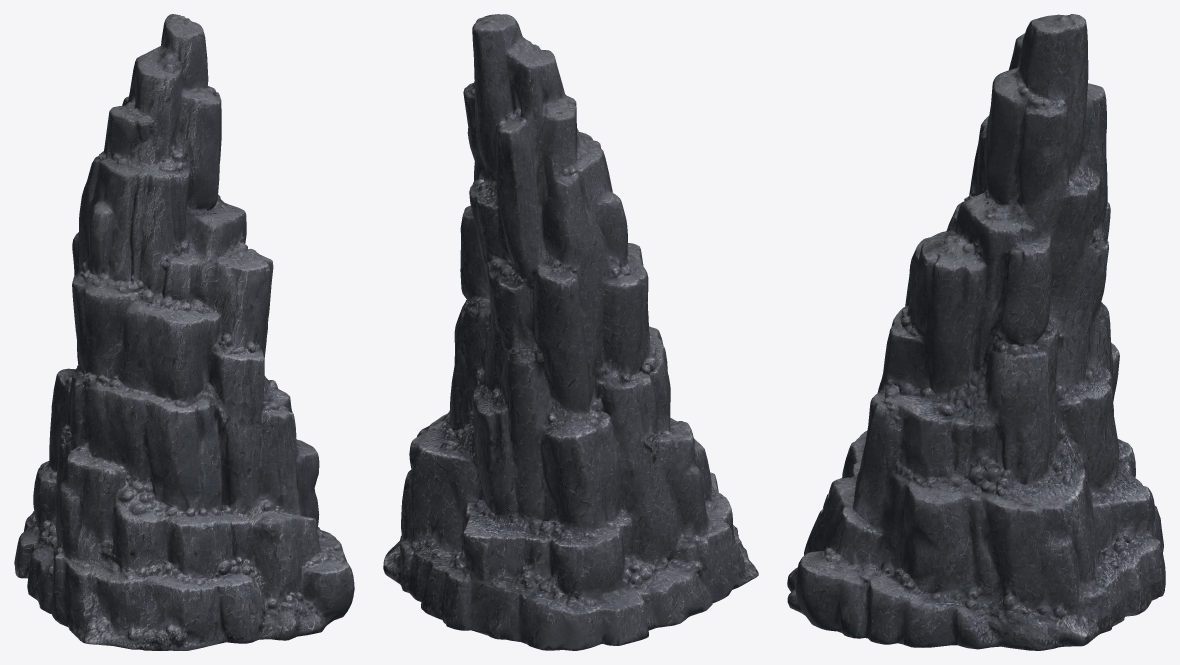
Rendered from prop-spire.glb.
3 views of the same model, side by side, from view 1: azimuth 30°, elevation 25°; view 2: azimuth 150°, elevation 25°; view 3: azimuth 270°, elevation 25° (orthographic). The views are drawn at different scales.
Size of the model in its own units: 1.02 by 1.9 by 1.12.
1 material, 1 textured.
